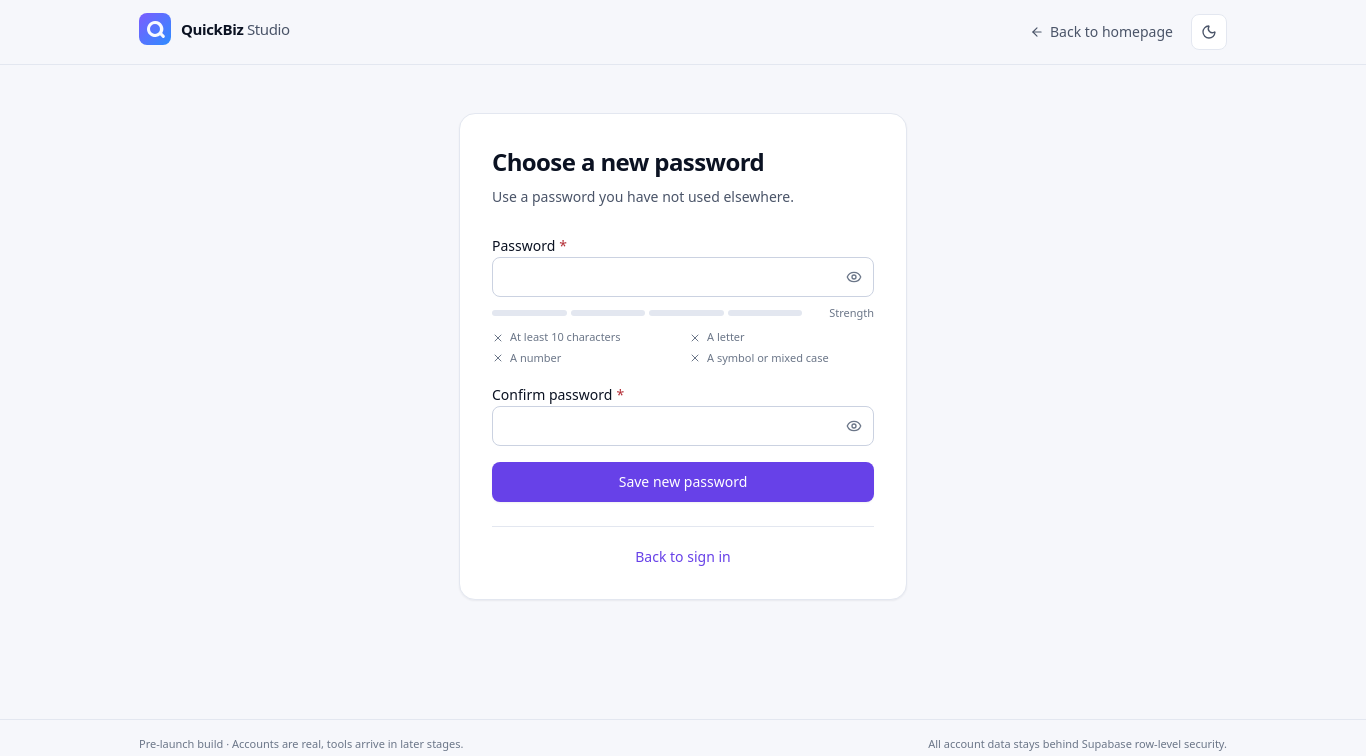
Test case: ResetPasswordPage › explains a reused password instead of failing silently
Type "brand-new-pass-9" into the password field labelled "Password*".
click(683, 277); type("brand-new-pass-9")  # box [492,257,874,297]
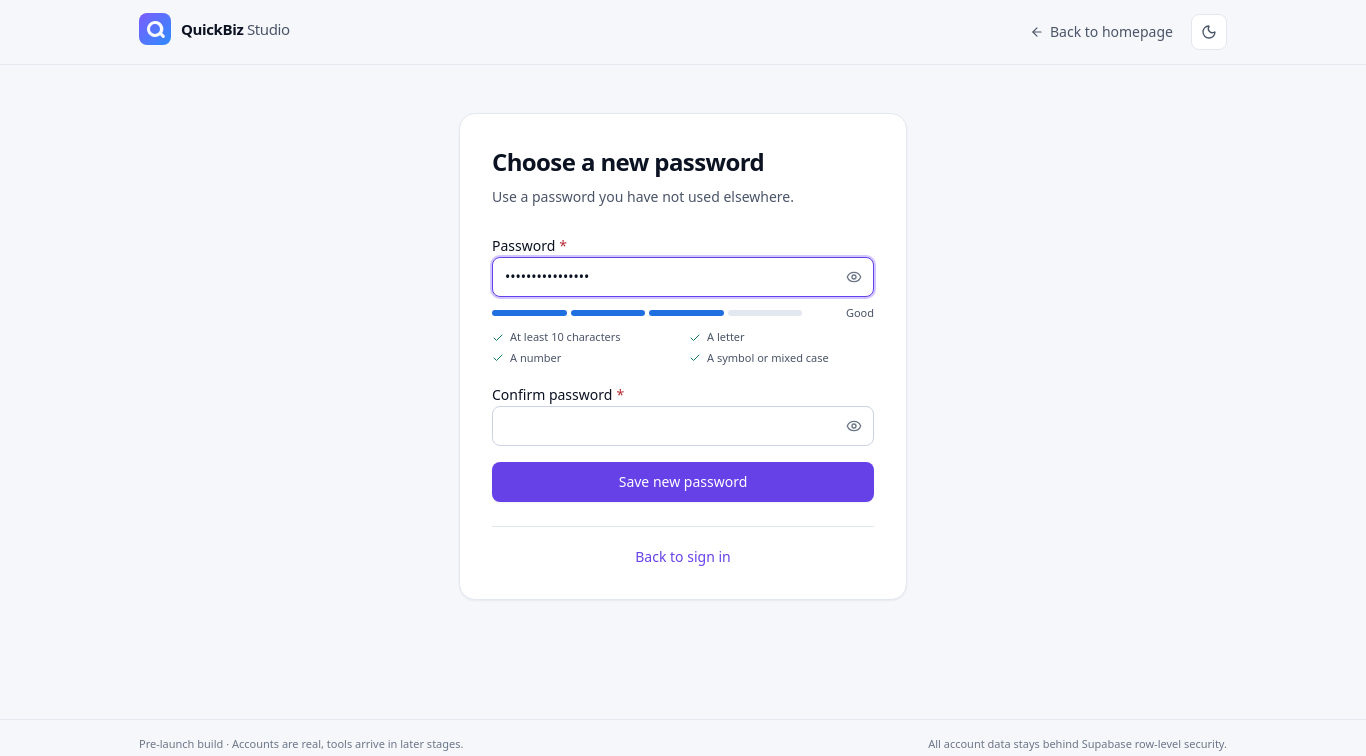
Type "brand-new-pass-9" into the password field labelled "Confirm password*".
click(683, 426); type("brand-new-pass-9")  # box [492,406,874,446]
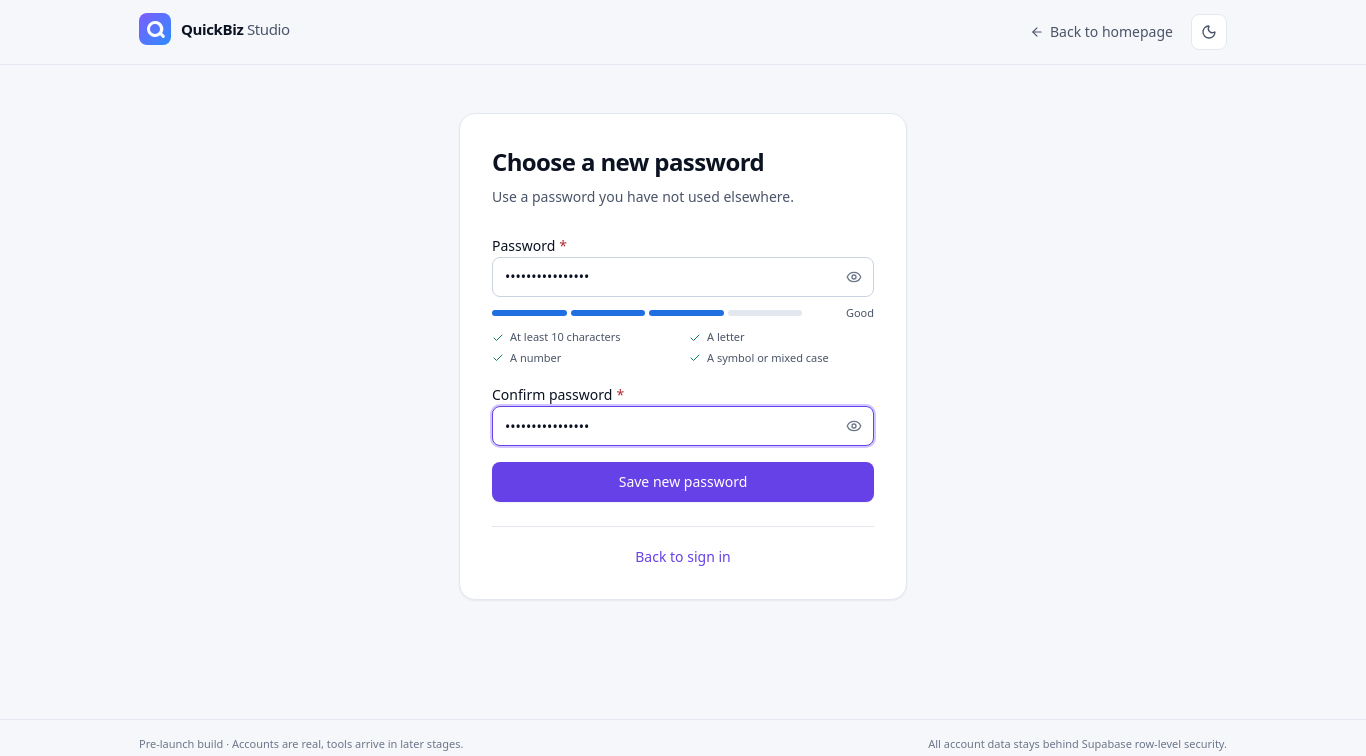
Click the button "Save new password".
click(683, 482)  # box [492,462,874,502]
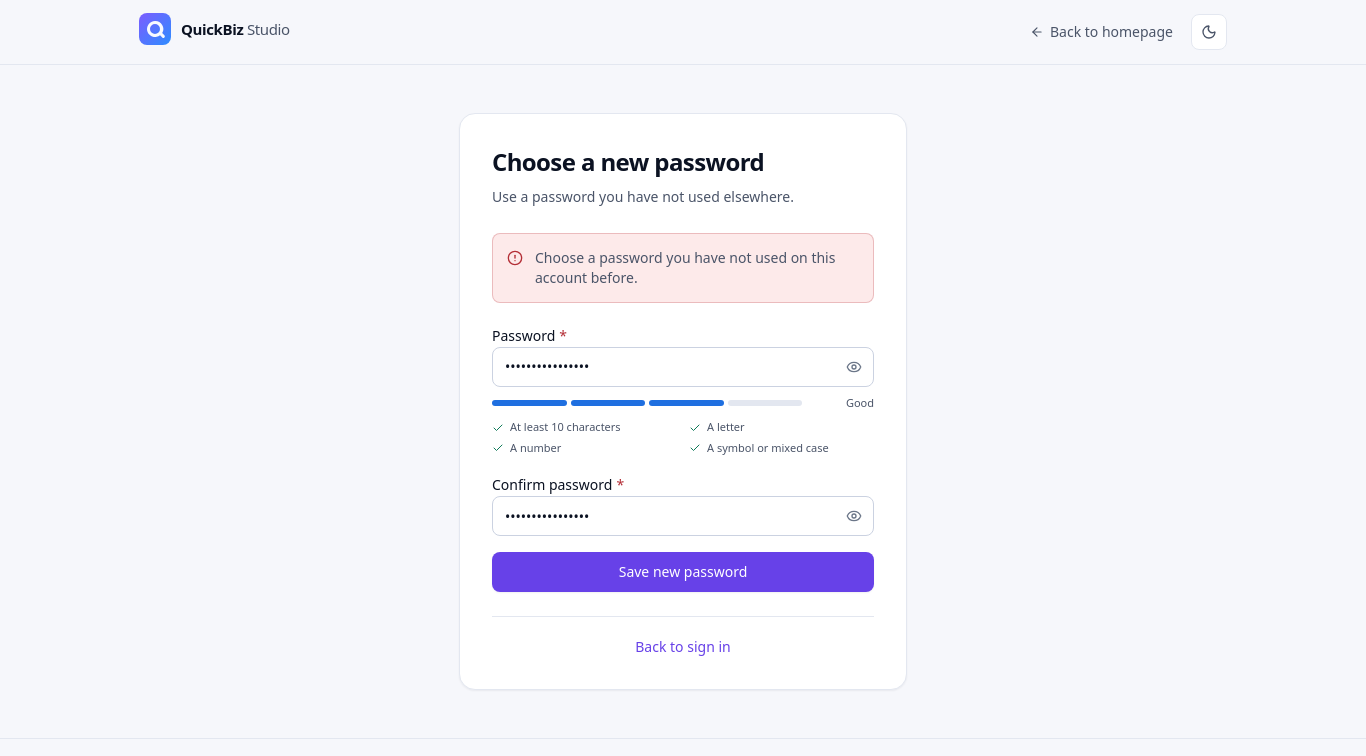
Result: the text "Choose a password you have not used on this account before." is shown at [535,248,859,288]
